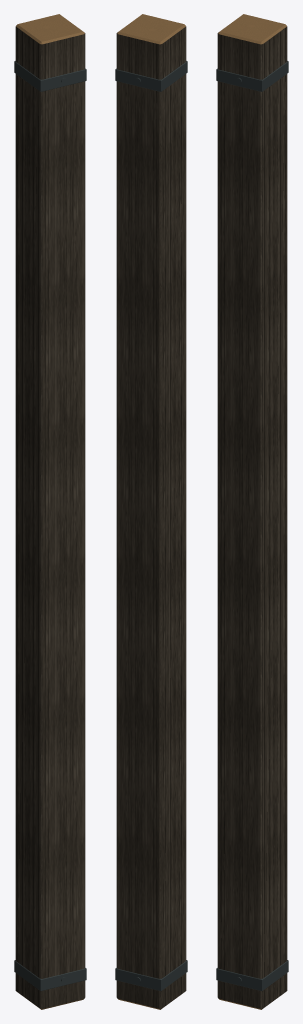
3 renders of one model, left to right at view 1: azimuth 30°, elevation 25°; view 2: azimuth 150°, elevation 25°; view 3: azimuth 330°, elevation 25°, orthographic.
Parts seen in each view (by area): view 1: Mesh_dark, Mesh_iron, Mesh_endgrain; view 2: Mesh_dark, Mesh_iron, Mesh_endgrain; view 3: Mesh_dark, Mesh_iron, Mesh_endgrain.
Boxes of the visible parts, bbox=[...] form: Mesh_dark: bbox=[15, 26, 85, 1008]; Mesh_iron: bbox=[14, 61, 86, 990]; Mesh_endgrain: bbox=[16, 14, 84, 1009]; Mesh_dark: bbox=[116, 26, 186, 1008]; Mesh_iron: bbox=[115, 61, 187, 990]; Mesh_endgrain: bbox=[117, 14, 185, 1009]; Mesh_dark: bbox=[217, 26, 287, 1008]; Mesh_iron: bbox=[216, 61, 288, 990]; Mesh_endgrain: bbox=[218, 14, 286, 1009].
Bounding box in the file's own units: 0.225 × 4.5 × 0.233.
Materials: 3 (2 with a texture image).
